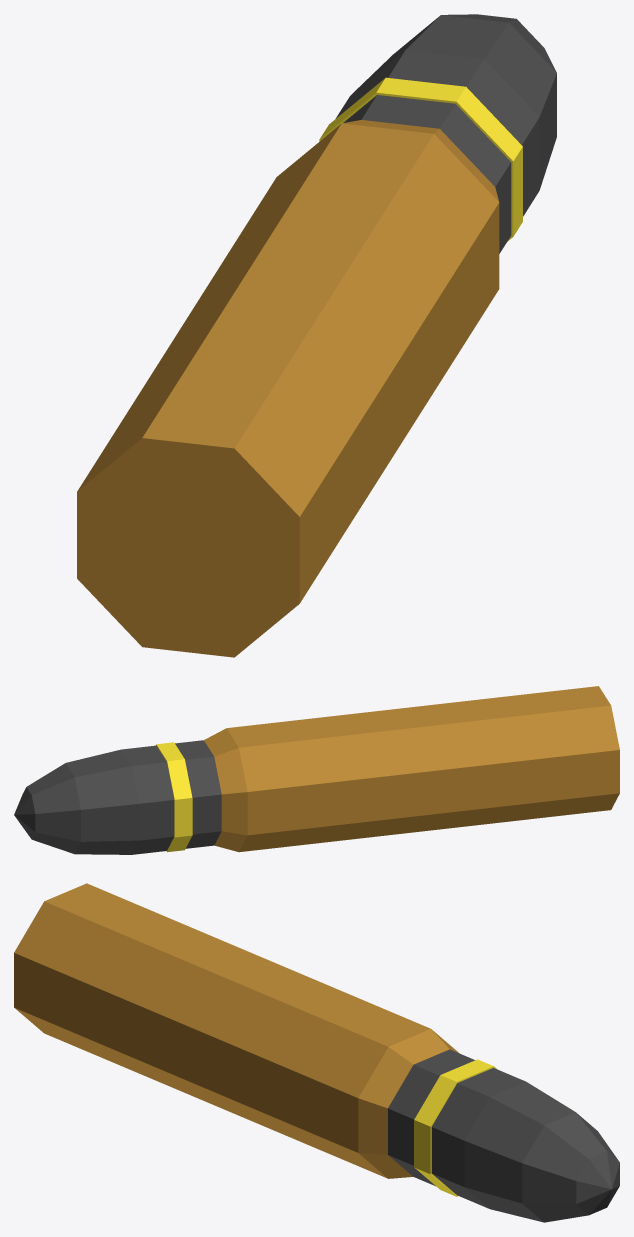
The model's file is ce_ammo_heavy_heat_a.obj.
3 views of the same model, one above another, from view 1: azimuth 30°, elevation 25°; view 2: azimuth 150°, elevation 25°; view 3: azimuth 270°, elevation 25° (orthographic). The views are drawn at different scales.
Parts seen in each view (by area): view 1: ce_ammo_heavy_heat_a_0, ce_ammo_heavy_heat_a_5, ce_ammo_heavy_heat_a_4, ce_ammo_heavy_heat_a_2, ce_ammo_heavy_heat_a_3, ce_ammo_heavy_heat_a_1; view 2: ce_ammo_heavy_heat_a_0, ce_ammo_heavy_heat_a_5, ce_ammo_heavy_heat_a_4, ce_ammo_heavy_heat_a_6, ce_ammo_heavy_heat_a_1, ce_ammo_heavy_heat_a_2, ce_ammo_heavy_heat_a_3, ce_ammo_heavy_heat_a_7; view 3: ce_ammo_heavy_heat_a_0, ce_ammo_heavy_heat_a_5, ce_ammo_heavy_heat_a_6, ce_ammo_heavy_heat_a_1, ce_ammo_heavy_heat_a_4, ce_ammo_heavy_heat_a_2, ce_ammo_heavy_heat_a_3, ce_ammo_heavy_heat_a_7.
Part boxes in pixels (box(x1,y1,x2,y2)): ce_ammo_heavy_heat_a_0: box(77, 123, 499, 657); ce_ammo_heavy_heat_a_5: box(352, 15, 556, 189); ce_ammo_heavy_heat_a_4: box(335, 50, 539, 216); ce_ammo_heavy_heat_a_2: box(343, 95, 511, 253); ce_ammo_heavy_heat_a_3: box(319, 77, 522, 240); ce_ammo_heavy_heat_a_1: box(343, 120, 498, 201); ce_ammo_heavy_heat_a_0: box(226, 686, 619, 852); ce_ammo_heavy_heat_a_5: box(66, 749, 138, 854); ce_ammo_heavy_heat_a_4: box(121, 745, 174, 854); ce_ammo_heavy_heat_a_6: box(27, 763, 80, 853); ce_ammo_heavy_heat_a_1: box(204, 728, 247, 851); ce_ammo_heavy_heat_a_2: box(175, 740, 221, 848); ce_ammo_heavy_heat_a_3: box(156, 742, 192, 852); ce_ammo_heavy_heat_a_7: box(14, 787, 35, 839); ce_ammo_heavy_heat_a_0: box(14, 883, 430, 1178); ce_ammo_heavy_heat_a_5: box(464, 1081, 575, 1222); ce_ammo_heavy_heat_a_6: box(522, 1112, 619, 1222); ce_ammo_heavy_heat_a_1: box(358, 1029, 459, 1178); ce_ammo_heavy_heat_a_4: box(431, 1068, 525, 1208); ce_ammo_heavy_heat_a_2: box(388, 1049, 474, 1186); ce_ammo_heavy_heat_a_3: box(414, 1059, 497, 1196); ce_ammo_heavy_heat_a_7: box(576, 1151, 619, 1215).
Size of the model in its own units: 0.7684 by 0.1848 by 0.7684.
